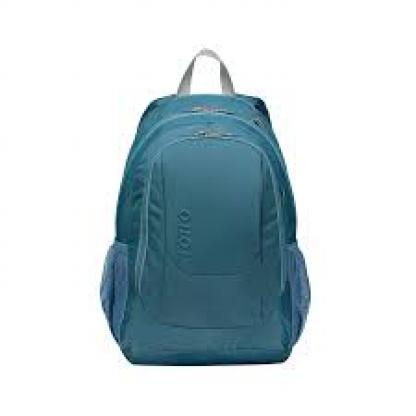morral: (83, 24, 331, 375)
